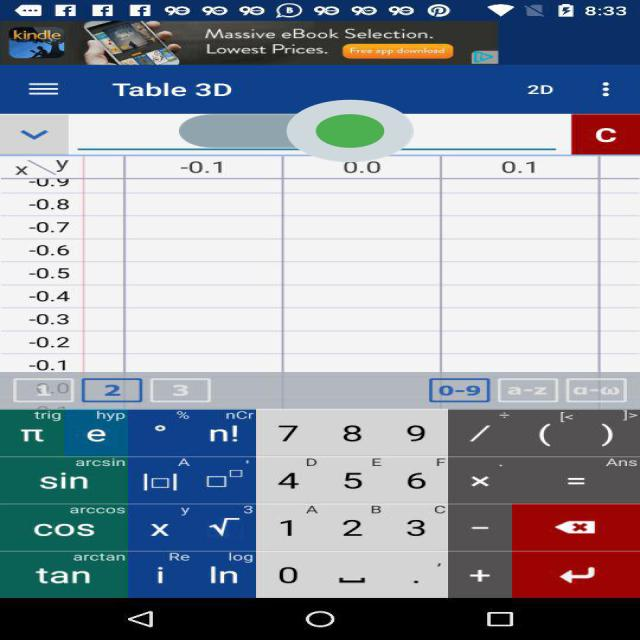social proof: (179, 73, 414, 189)
